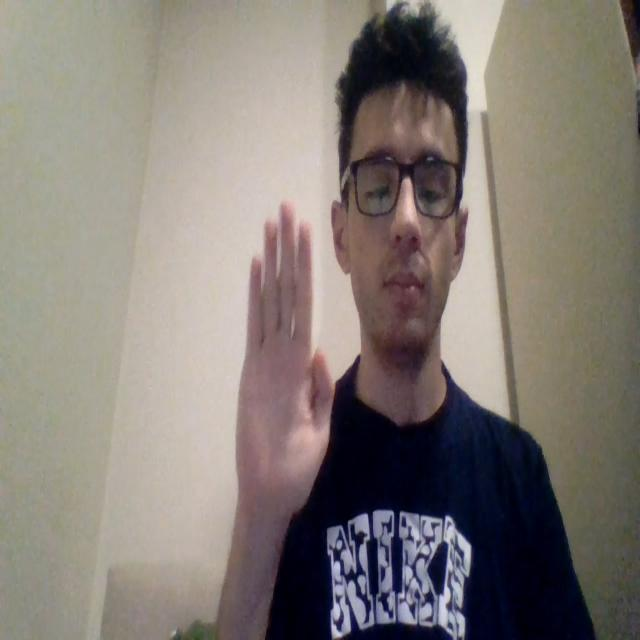hello: (234, 198, 334, 523)
